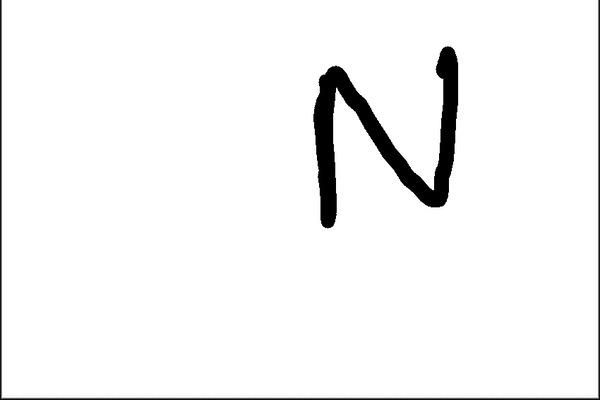N: (304, 41, 465, 229)
